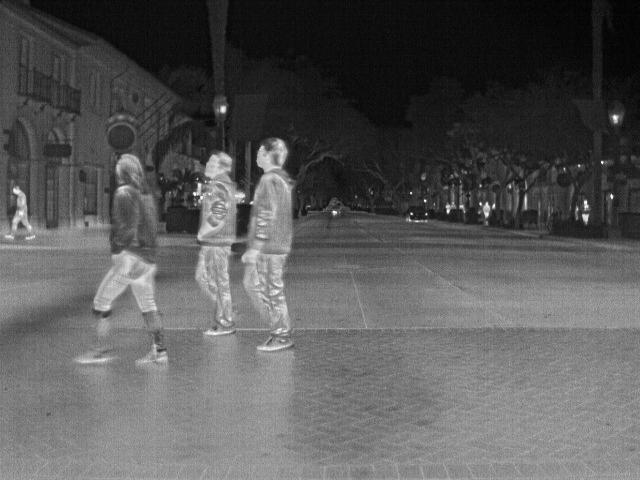car: (409, 206, 427, 222)
person: (71, 152, 171, 367), (240, 133, 294, 354), (194, 150, 237, 338), (3, 183, 38, 241), (580, 197, 591, 223), (483, 200, 493, 218)
